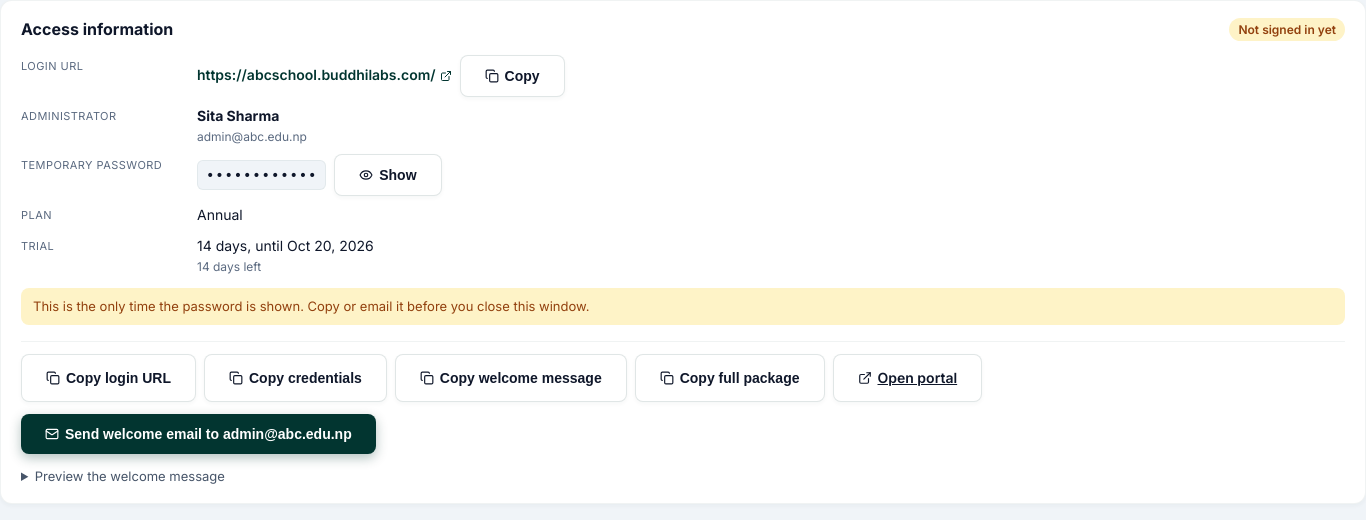
Scenario: the access card › masks the password until asked, then shows it
Expected: the text "pw-123" is not shown
Click the button "Show" at [388, 175], box [334,154,442,196]
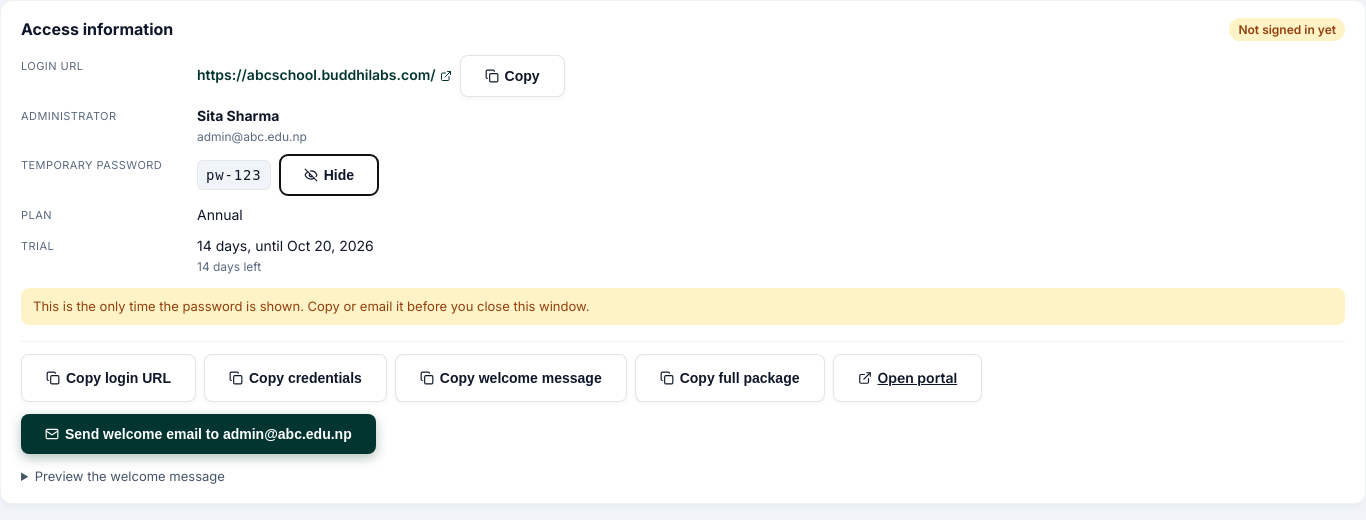
Result: the text "pw-123" is shown at [197,160,271,190]
